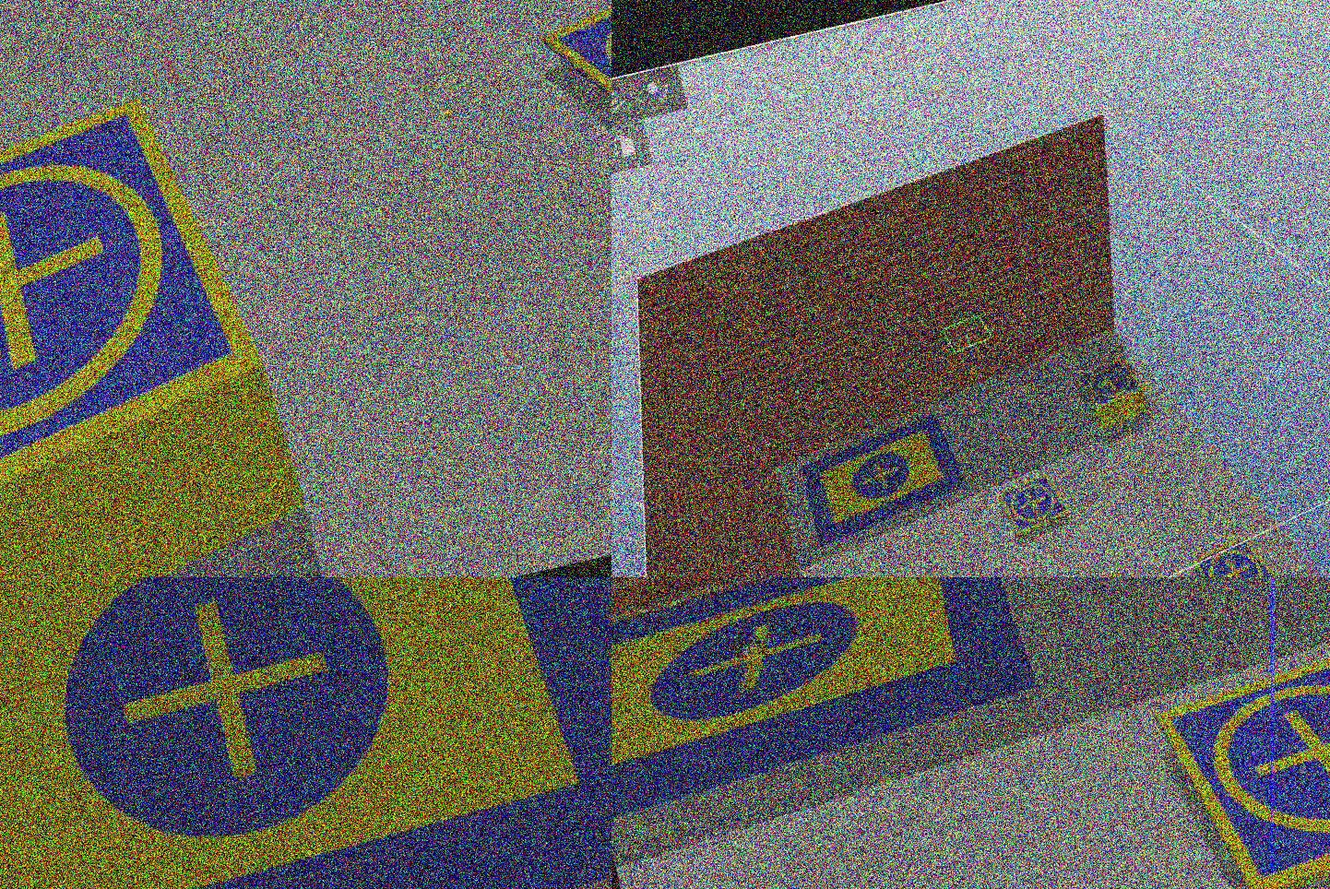large_base: (1, 578, 612, 889), (612, 578, 1044, 812), (798, 411, 976, 547)
small_base: (1, 85, 291, 578), (1153, 623, 1330, 889), (996, 471, 1074, 539), (1191, 531, 1287, 578), (1074, 356, 1147, 413)
